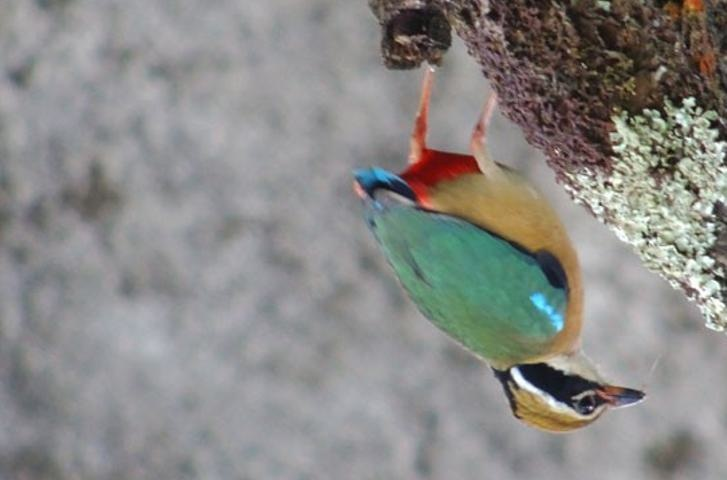pitta: (331, 49, 655, 427)
